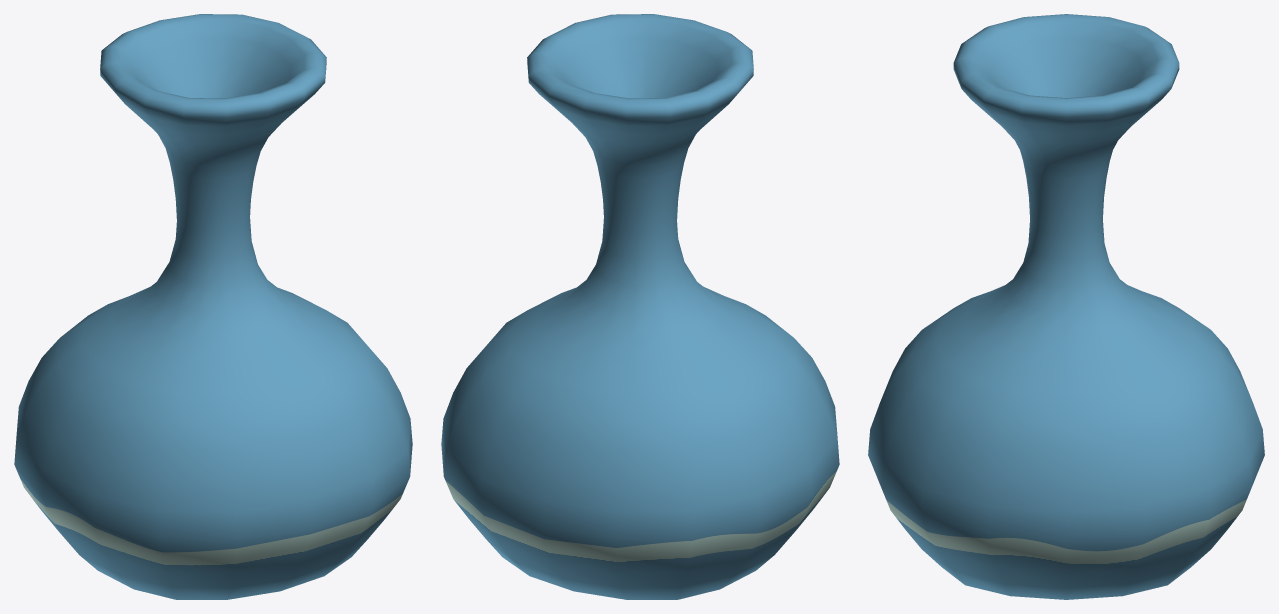
The model's file is BlueVaseM.fbx.
The picture shows the model from 3 angles, left to right: view 1: azimuth 30°, elevation 25°; view 2: azimuth 150°, elevation 25°; view 3: azimuth 270°, elevation 25°; orthographic projection.
Visible parts, largest first — view 1: Cube.008; view 2: Cube.008; view 3: Cube.008.
Part boxes in pixels (x1,y1,x2,y2): Cube.008: [14, 14, 412, 599]; Cube.008: [441, 14, 839, 599]; Cube.008: [868, 14, 1264, 599].
Bounding box in the file's own units: 176 × 238 × 176.
